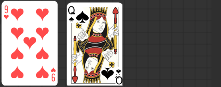9H: (2, 4, 10, 20)
